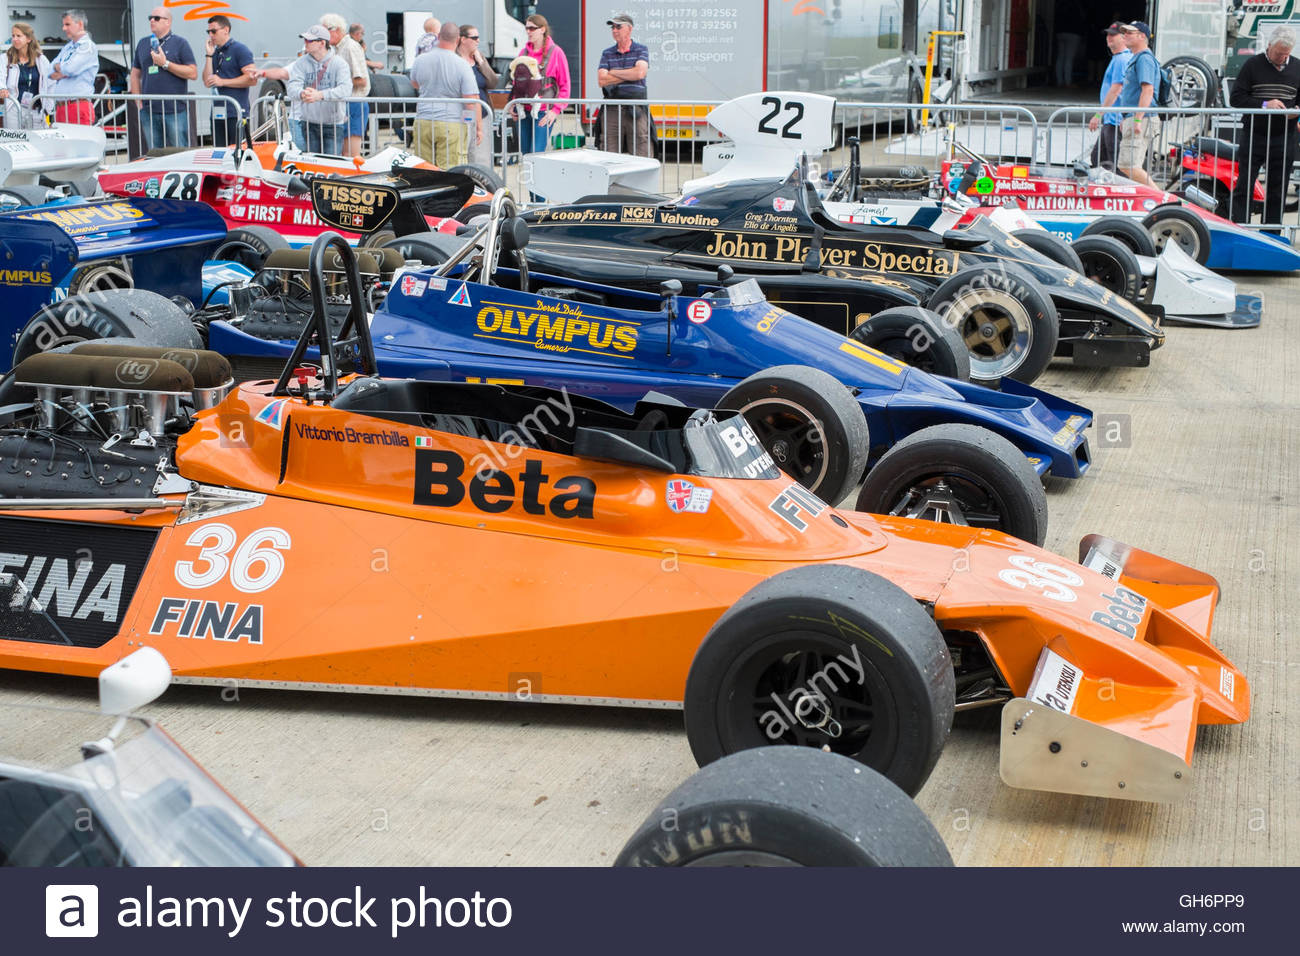f1_car: (1, 316, 1264, 824), (1, 174, 1109, 576), (308, 148, 1181, 404)
